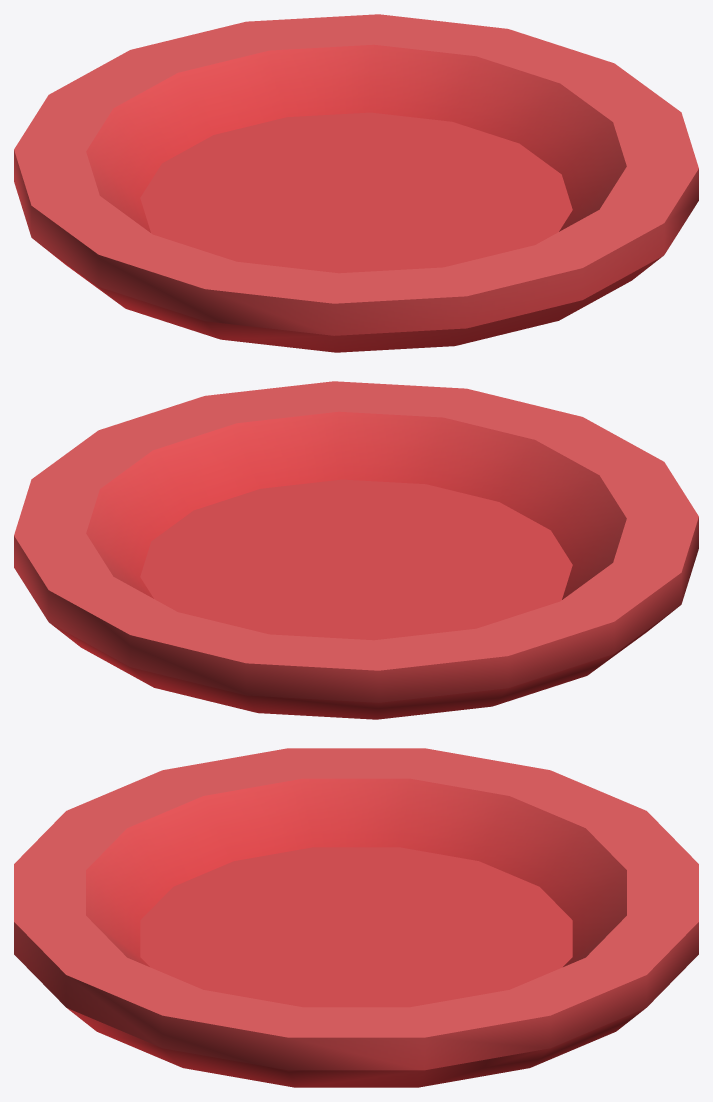
The model's file is plate_red.fbx.
The picture shows the model from 3 angles, top to bottom: view 1: azimuth 30°, elevation 25°; view 2: azimuth 150°, elevation 25°; view 3: azimuth 270°, elevation 25°; orthographic projection.
Visible parts, largest first — view 1: plate_red; view 2: plate_red; view 3: plate_red.
Boxes of the visible parts, left/top/right/bottom form: plate_red: left=14, top=14, right=698, bottom=352; plate_red: left=14, top=381, right=698, bottom=719; plate_red: left=14, top=748, right=698, bottom=1087.
Size of the model in its own units: 0.95 by 0.1 by 0.95.
